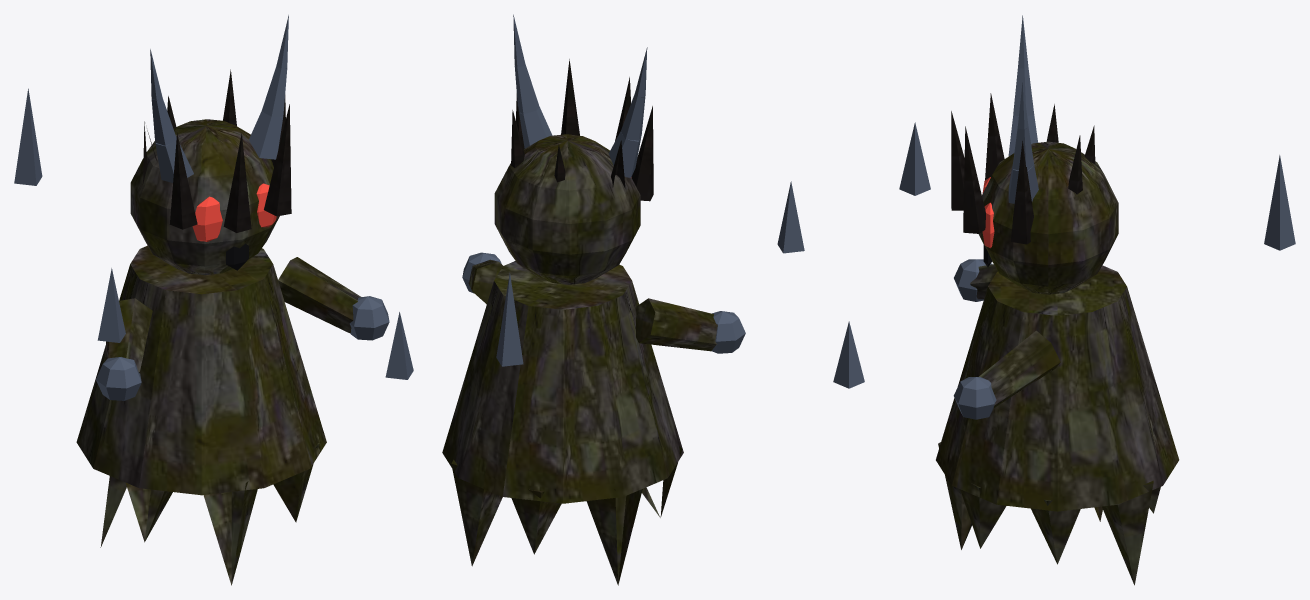
The model's file is boss_10.glb.
3 renders of one model, left to right at view 1: azimuth 30°, elevation 25°; view 2: azimuth 150°, elevation 25°; view 3: azimuth 270°, elevation 25°, orthographic. The views are drawn at different scales.
Visible parts, largest first — view 1: boss_10; view 2: boss_10; view 3: boss_10.
Boxes of the visible parts, box(x1,y1,x2,y2) form: boss_10: box(14, 15, 413, 585); boss_10: box(442, 14, 804, 585); boss_10: box(833, 15, 1295, 585).
Bounding box in the file's own units: 1.43 × 2.25 × 1.83.
5 materials, 5 textured.
